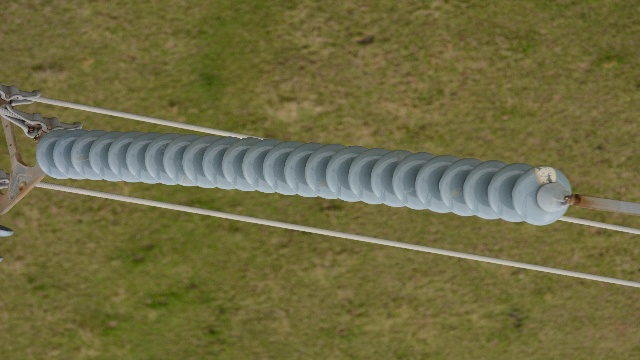insulator_unspecified: (37, 127, 573, 224)
pollution_flashover_local: (532, 166, 558, 184)
